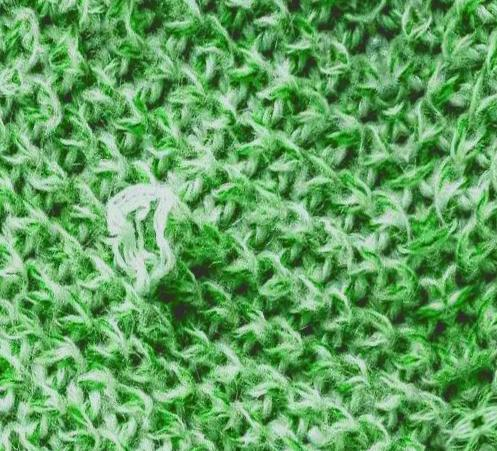snag: (102, 180, 184, 304)
